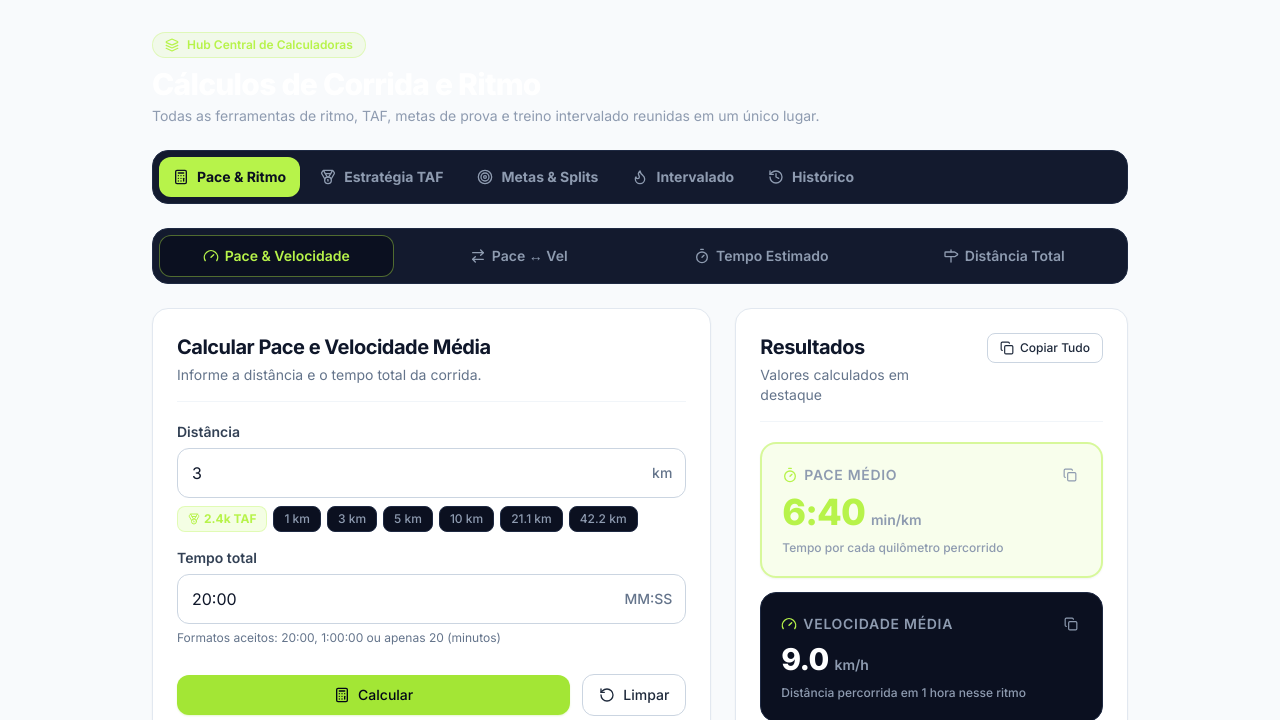
CalculadoraPage › preenche os campos e resultados ao clicar em uma linha da tabela de referência de 30s
Click the button "Pace ↔ Vel". click: (519, 256)
box: [402,235,636,277]
(page scrolled)
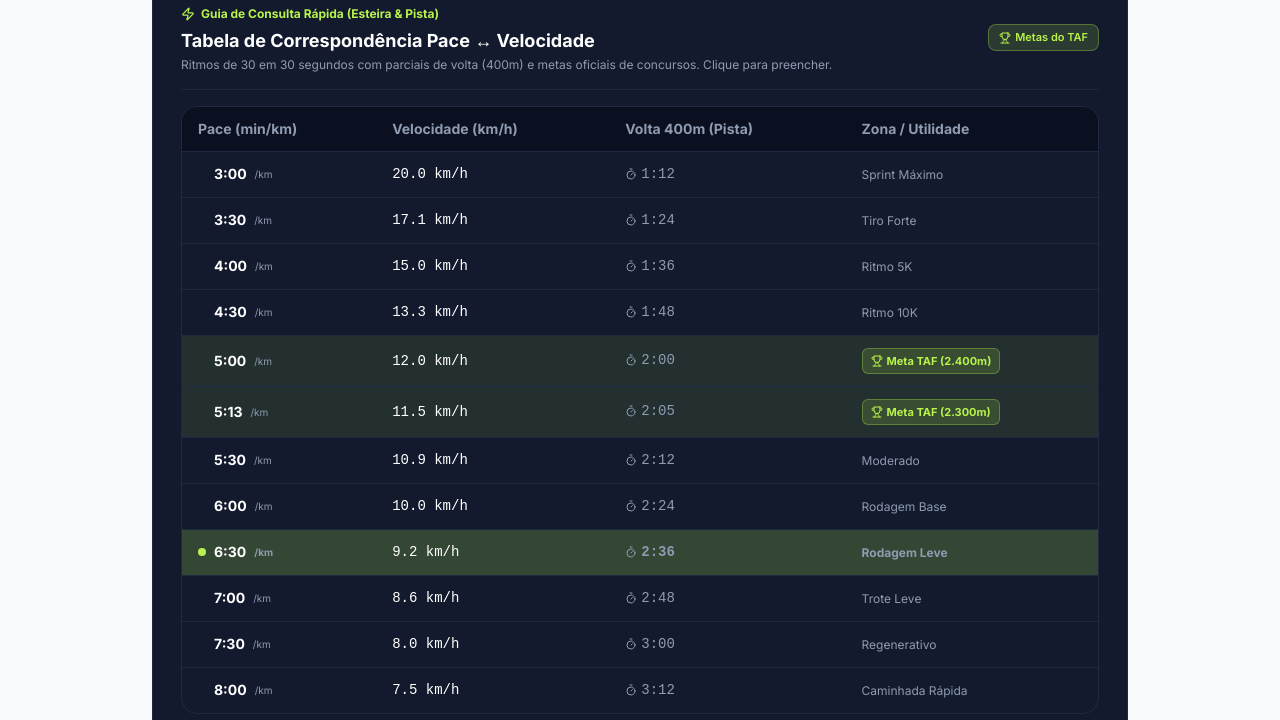
Clica na linha de 5:00 (Meta TAF 2.400m)
Click the row with test id "pace-row-5-00". click: (640, 360)
box: [182,335,1098,386]
(page scrolled)
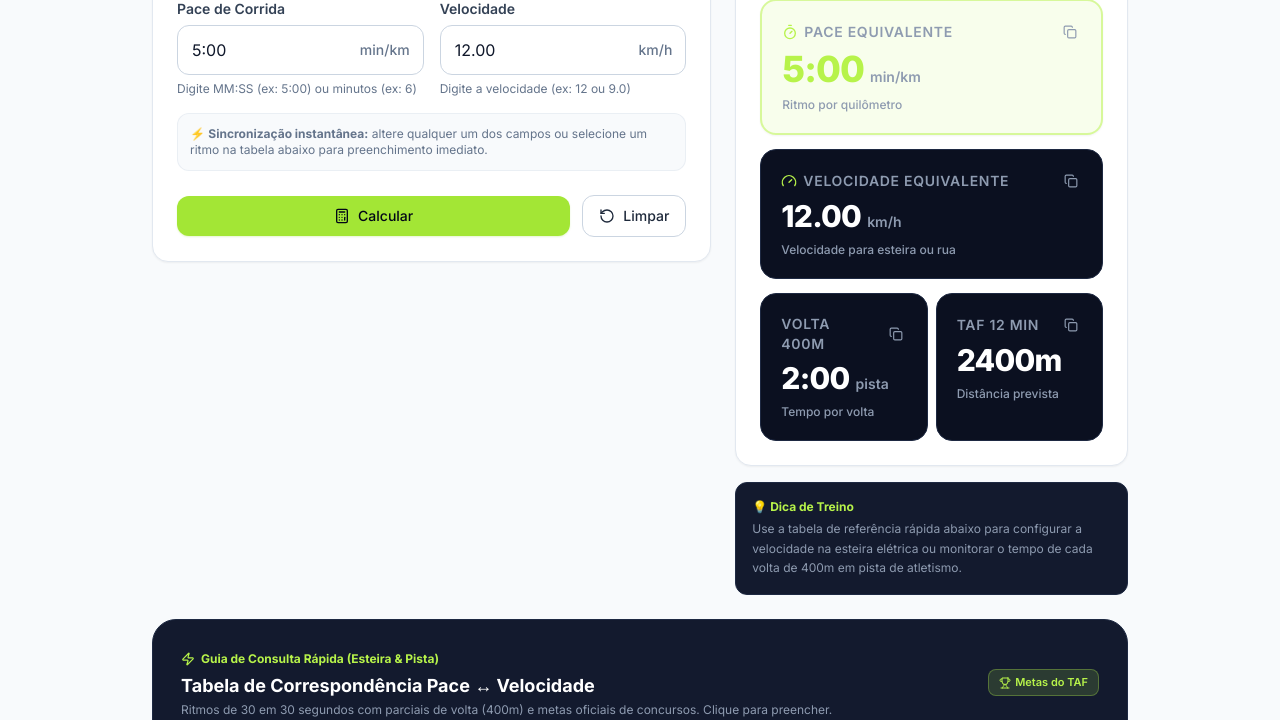
Now the field showing "5:00" is shown, box [177,25,424,75]
Now the field showing "12.00" is shown, box [440,25,686,75]
Now the text "2400m" is shown, box [957,342,1062,378]
